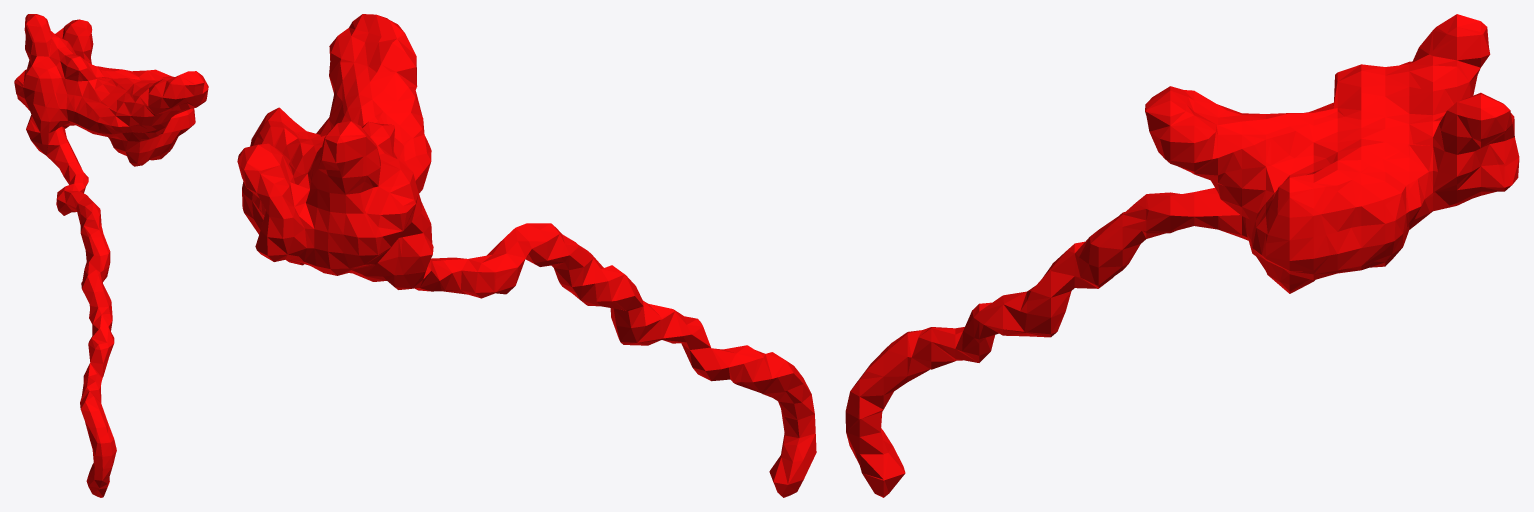
The model's file is yedV_coarse.dae.
3 renders of one model, left to right at view 1: azimuth 30°, elevation 25°; view 2: azimuth 150°, elevation 25°; view 3: azimuth 270°, elevation 25°, orthographic. The views are drawn at different scales.
Visible parts, largest first — view 1: yedV; view 2: yedV; view 3: yedV.
Part boxes in pixels (bbox=[...]): yedV: bbox=[14, 14, 208, 497]; yedV: bbox=[237, 14, 816, 497]; yedV: bbox=[845, 14, 1519, 497].
Bounding box in the file's own units: 108 × 153 × 164.
